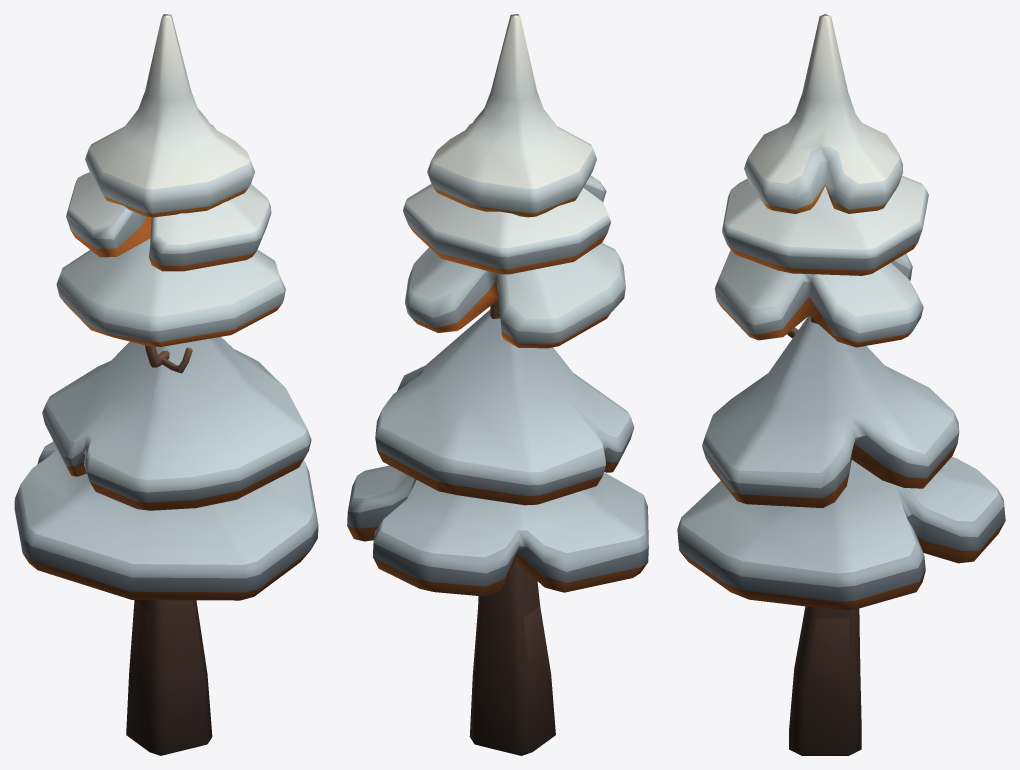
File: pine_tree_col2_06_snow.fbx
3 renders of one model, left to right at view 1: azimuth 30°, elevation 25°; view 2: azimuth 150°, elevation 25°; view 3: azimuth 270°, elevation 25°, orthographic.
Parts seen in each view (by area): view 1: tree_pine_col2_06_snow; view 2: tree_pine_col2_06_snow; view 3: tree_pine_col2_06_snow.
Part boxes in pixels (left/top/right/bottom): tree_pine_col2_06_snow: left=14, top=14, right=318, bottom=755; tree_pine_col2_06_snow: left=347, top=14, right=648, bottom=755; tree_pine_col2_06_snow: left=677, top=14, right=1005, bottom=755.
Bounding box in the file's own units: 432 × 1059 × 433.
1 material, 1 textured.
